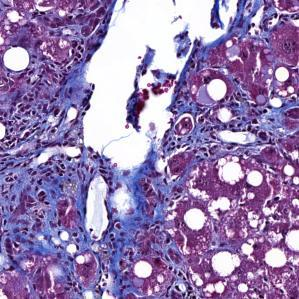fibrosis: (0, 151, 162, 259), (172, 77, 288, 152), (0, 70, 89, 163)
